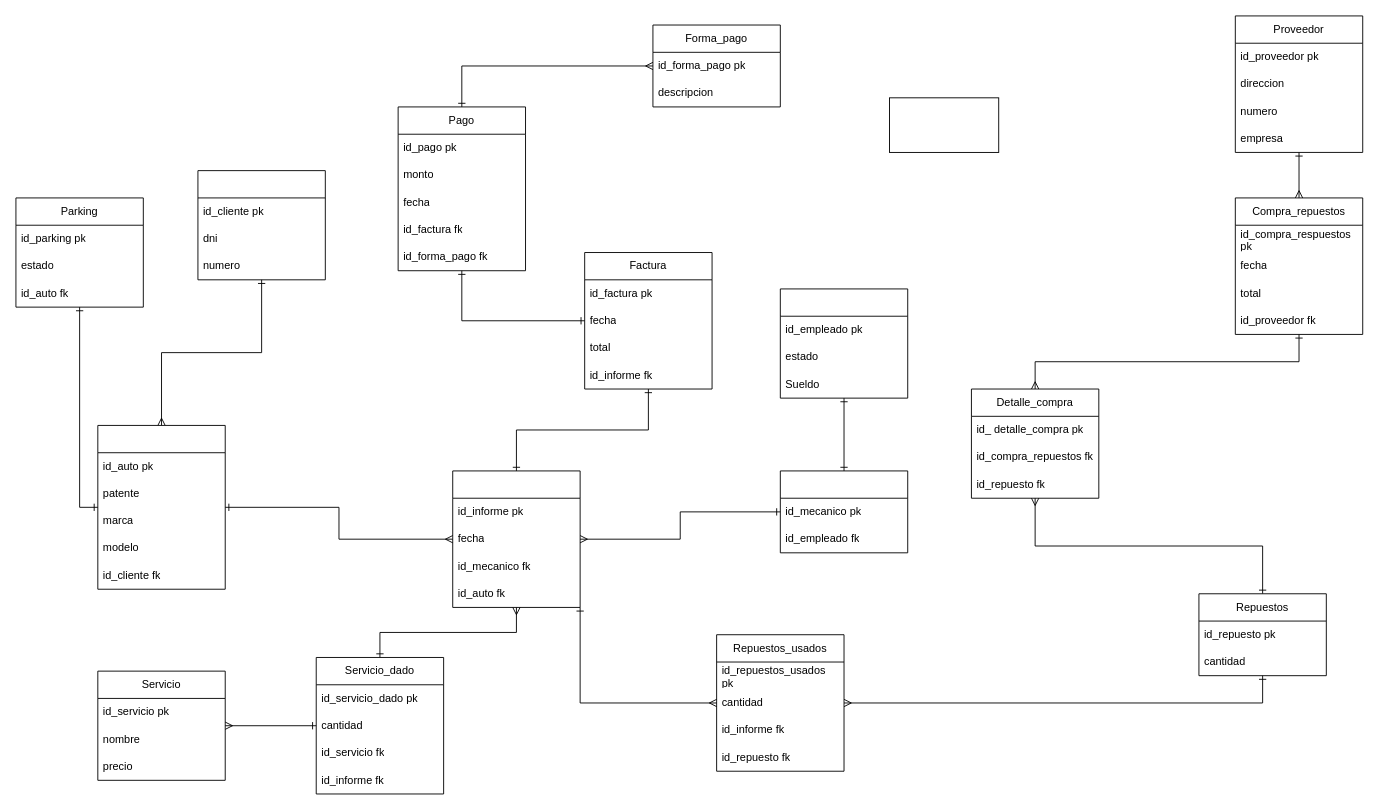
Image size: 1379x810. Some labels were removed from this diagram. Each missing label, with the box of its shape:
Autos: (97, 425, 225, 589)
Clientes: (197, 170, 325, 280)
Empleados: (779, 288, 908, 398)
Informes: (452, 470, 580, 607)
Mecanicos: (779, 470, 908, 553)
Taller de autos: (889, 97, 999, 152)
